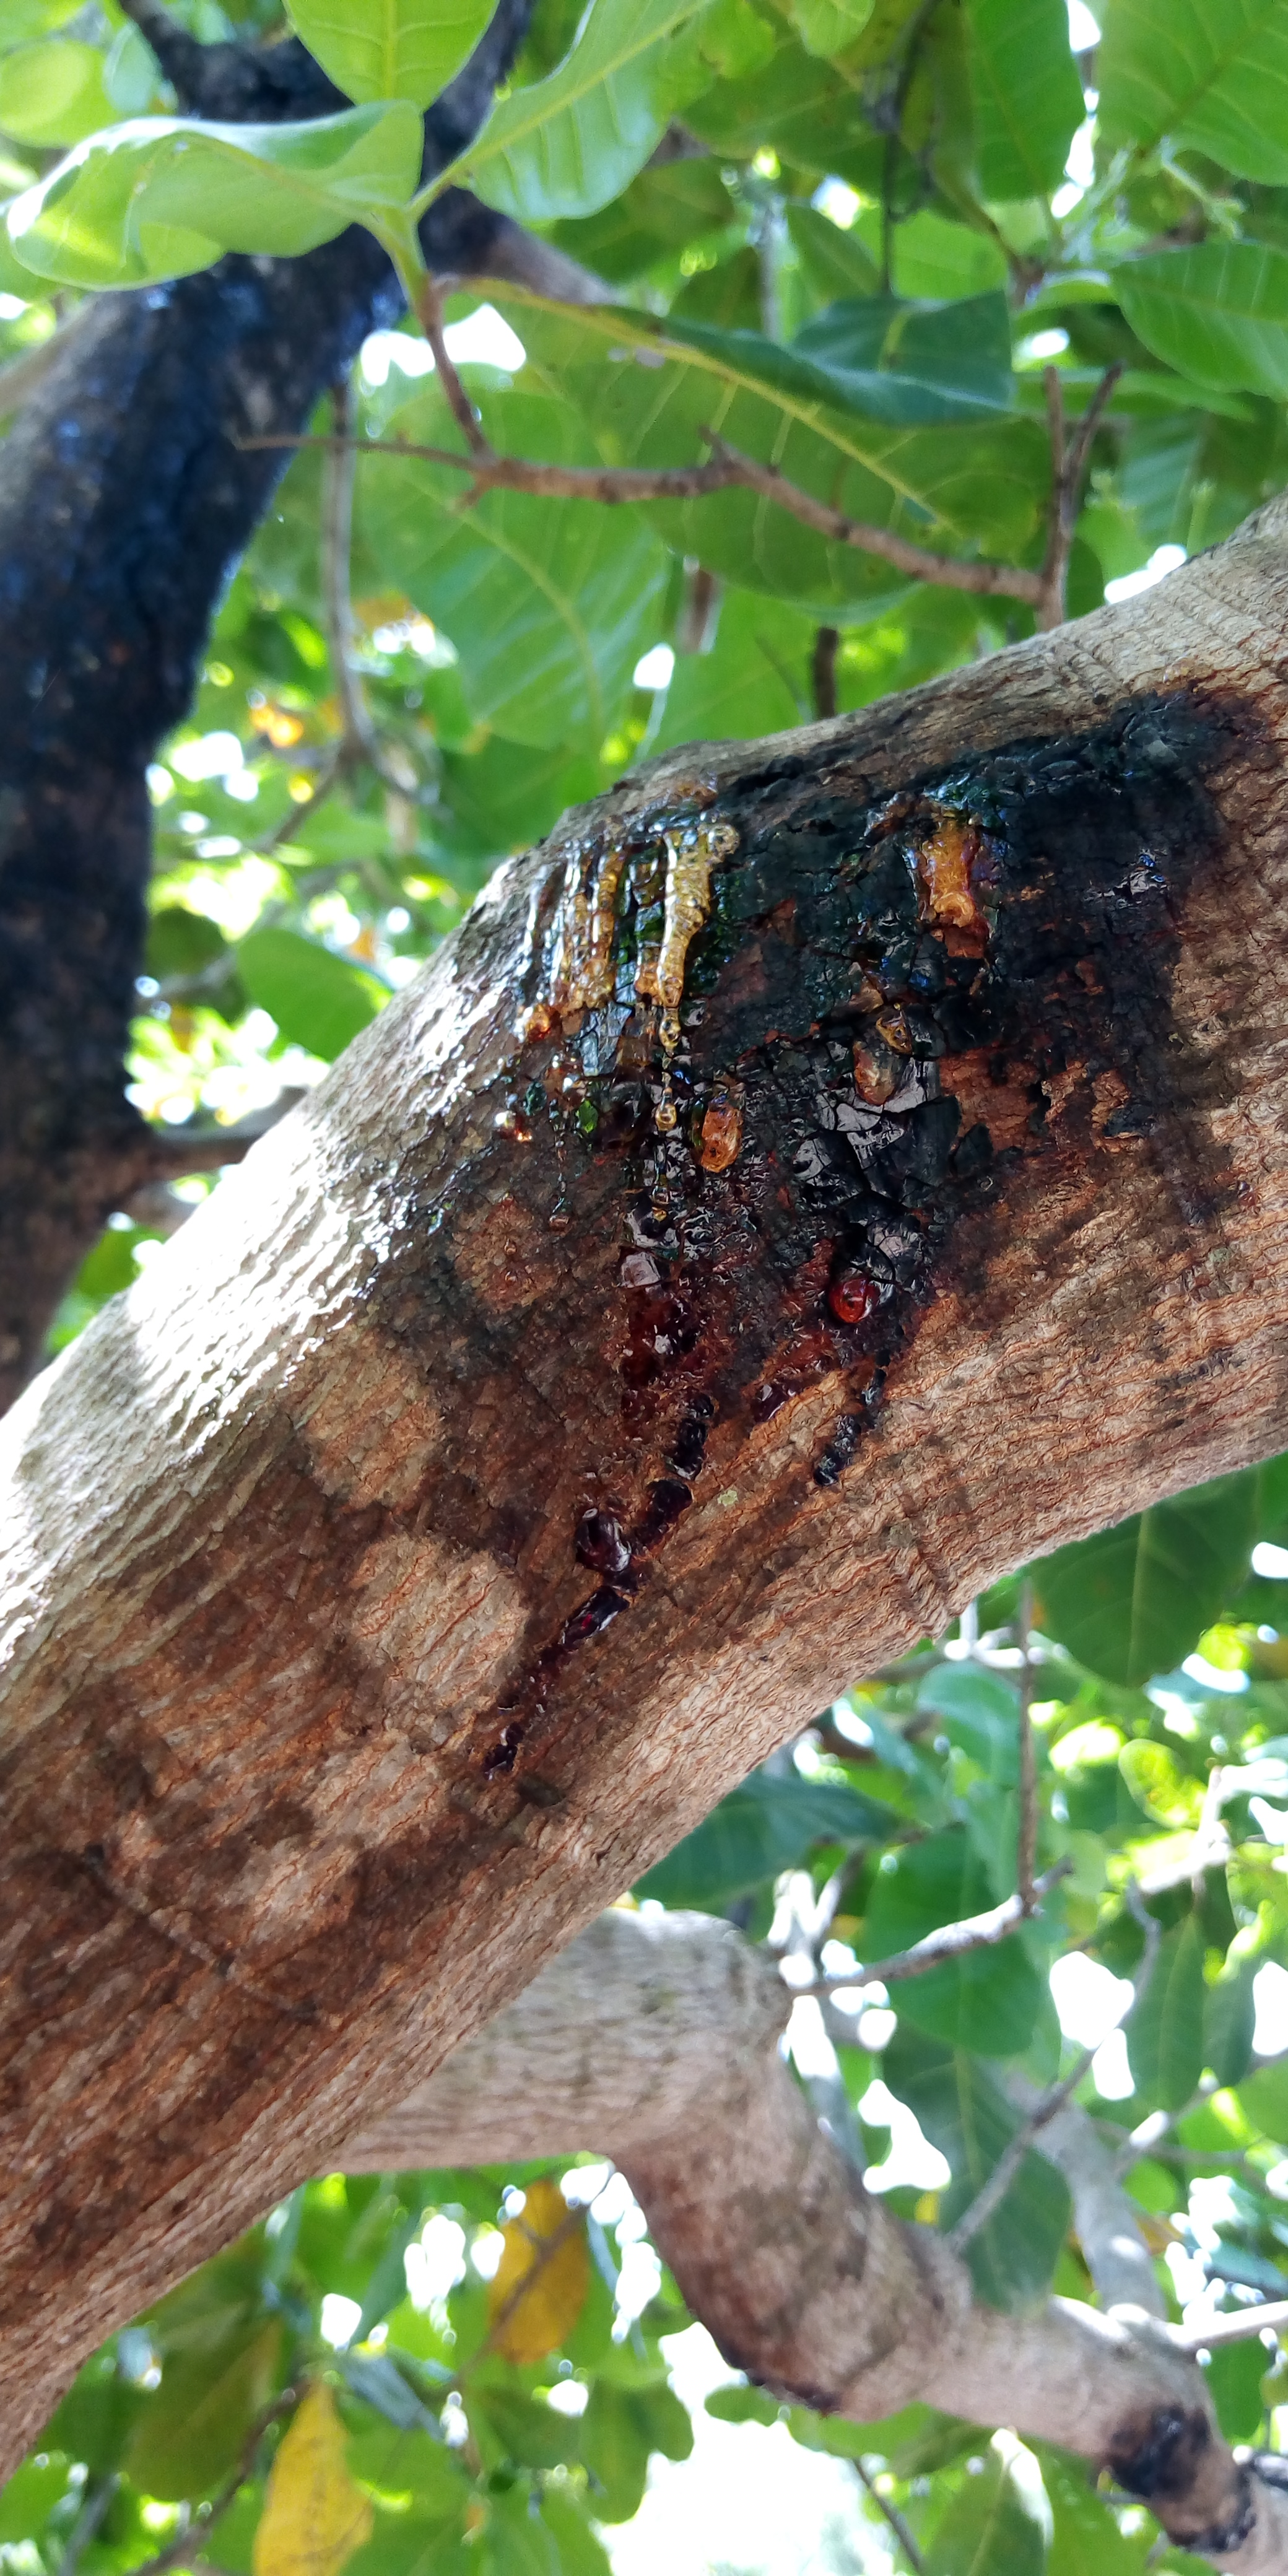Gommose: (467, 672, 1222, 1828)
